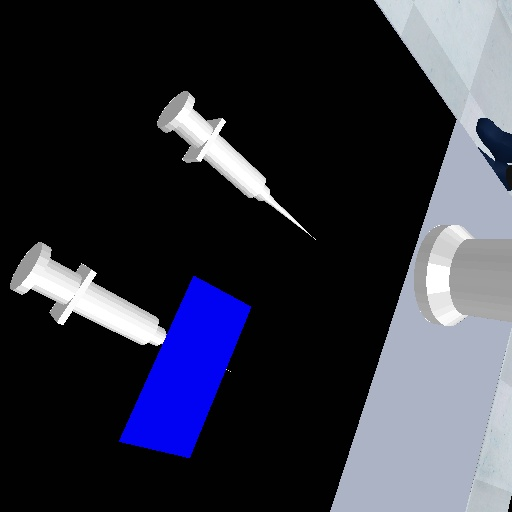jeringuilla: (152, 83, 324, 246), (6, 239, 169, 348)
